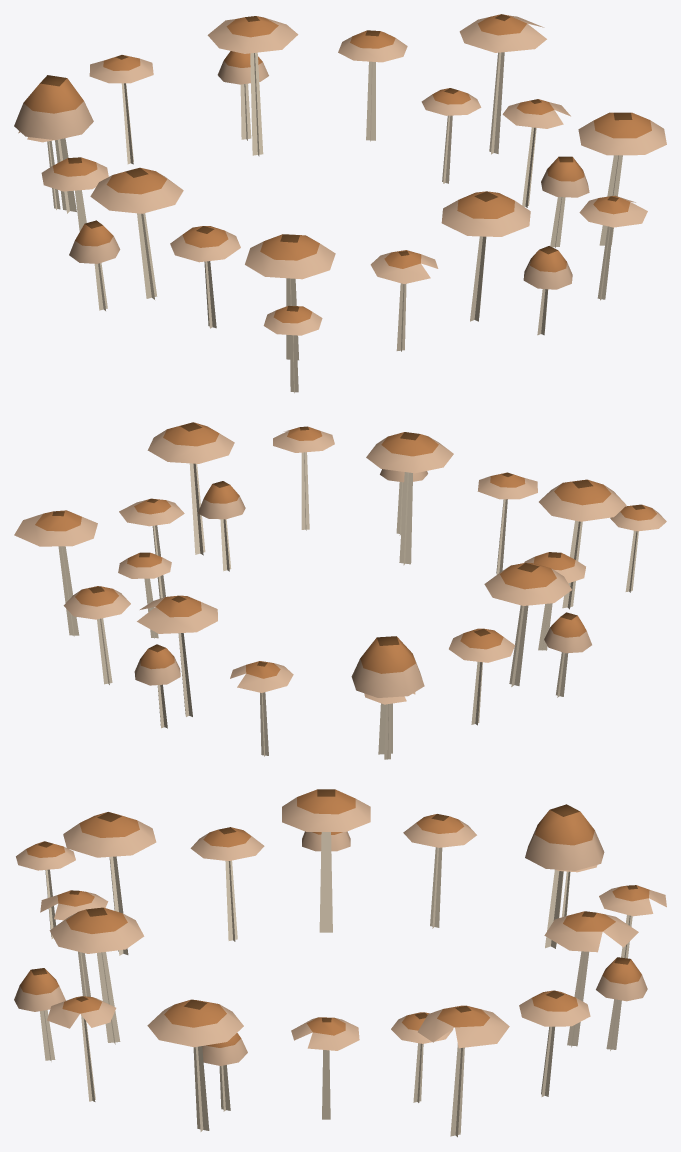
The model's file is Brown_Mushrooms_Cluster_1.glb.
3 renders of one model, top to bottom at view 1: azimuth 30°, elevation 25°; view 2: azimuth 150°, elevation 25°; view 3: azimuth 270°, elevation 25°, orthographic. The views are drawn at different scales.
Parts seen in each view (by area): view 1: Brown_Mushrooms_Cluster_1; view 2: Brown_Mushrooms_Cluster_1; view 3: Brown_Mushrooms_Cluster_1.
Part boxes in pixels (x1,y1,x2,y2): Brown_Mushrooms_Cluster_1: (14, 14, 666, 393); Brown_Mushrooms_Cluster_1: (14, 422, 666, 759); Brown_Mushrooms_Cluster_1: (14, 789, 666, 1137).
Size of the model in its own units: 0.5774 by 0.1333 by 0.5937.
Materials: 1 (1 with a texture image).
